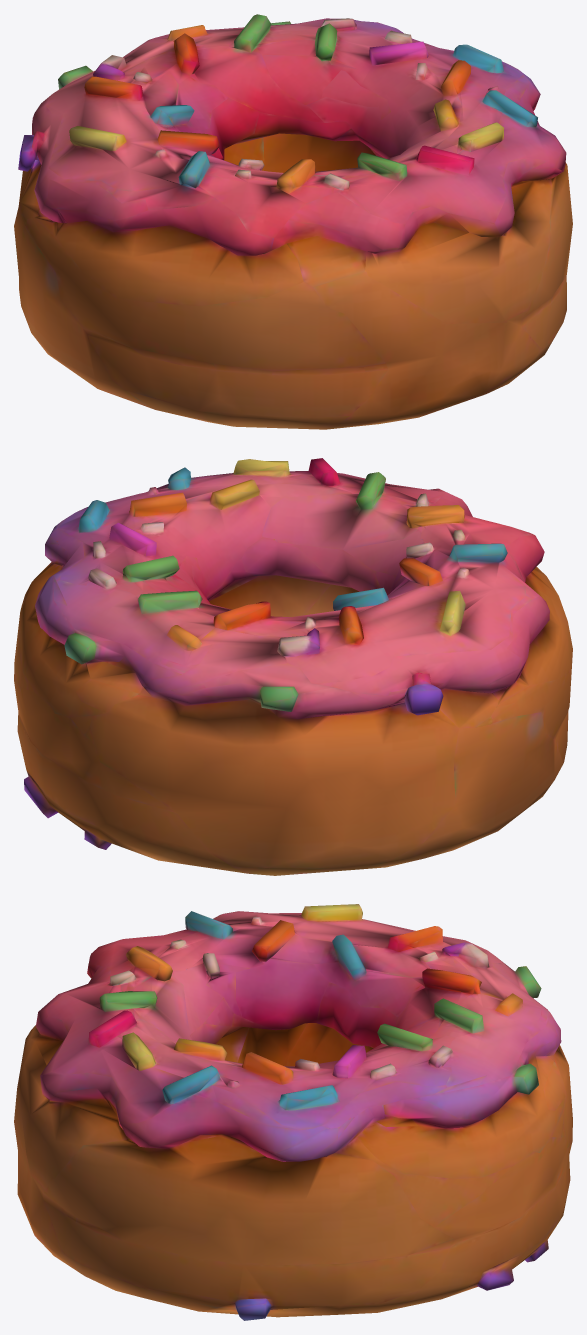
3 renders of one model, top to bottom at view 1: azimuth 30°, elevation 25°; view 2: azimuth 150°, elevation 25°; view 3: azimuth 270°, elevation 25°, orthographic.
Parts seen in each view (by area): view 1: material; view 2: material; view 3: material.
Boxes of the visible parts, left/top/right/bottom form: material: left=14, top=14, right=572, bottom=429; material: left=14, top=458, right=572, bottom=875; material: left=14, top=904, right=572, bottom=1320.
Size of the model in its own units: 1 by 0.4632 by 0.9995.
Materials: 1 (1 with a texture image).
